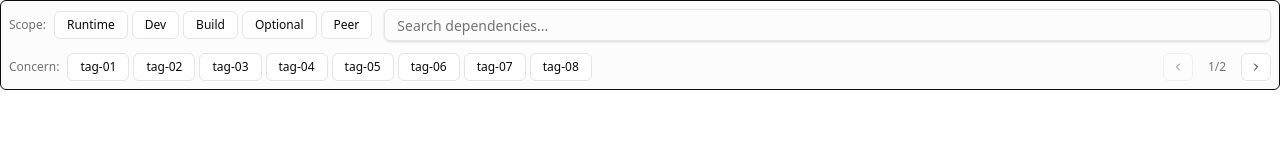
Test: DependencyFilters › paginates concern tags when more than one page is available
The width and height of the screenshot is (1280, 160).
Expected: the button "tag-01" is shown, [67,53,129,81]
Expected: the button "tag-08" is shown, [530,53,592,81]
Click the button named "next concern tags": (1256, 67) [1241,53,1271,81]
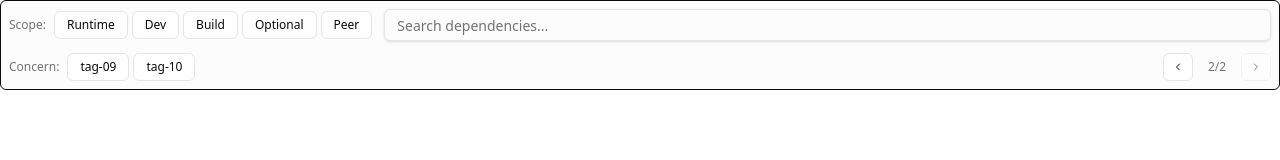
Result: the button "tag-01" is gone
Result: the button "tag-09" is shown at [67,53,129,81]
Result: the button "tag-10" is shown at [133,53,195,81]
